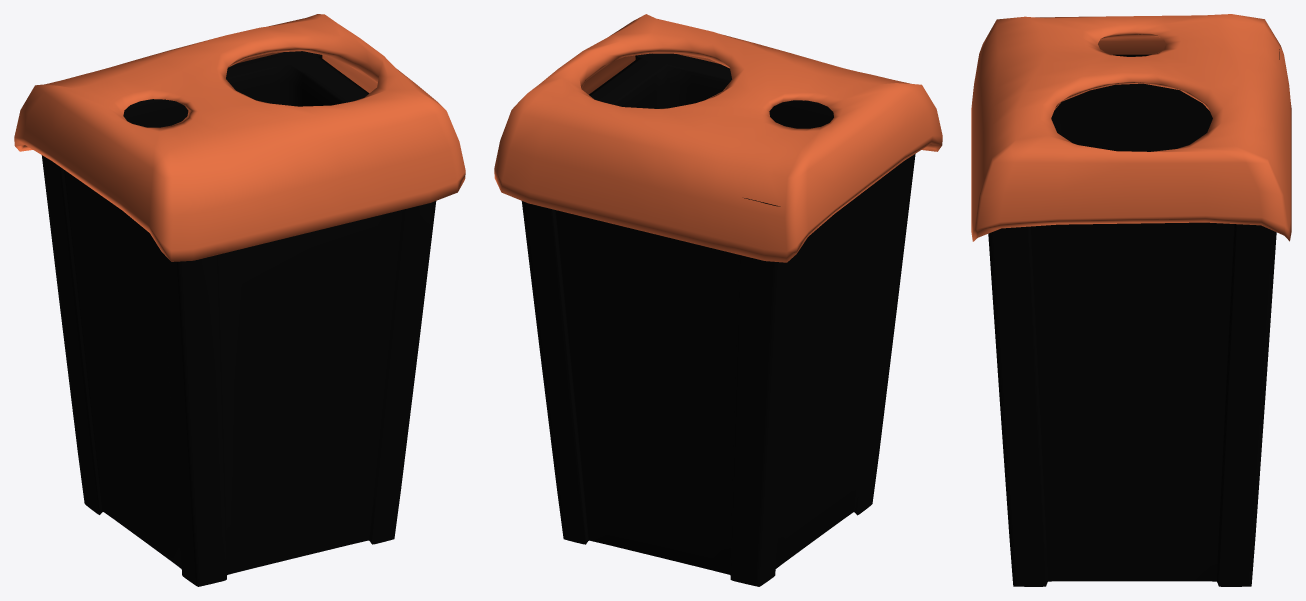
The model's file is red_bin_2.fbx.
The picture shows the model from 3 angles, left to right: view 1: azimuth 30°, elevation 25°; view 2: azimuth 150°, elevation 25°; view 3: azimuth 270°, elevation 25°; orthographic projection. The views are drawn at different scales.
Parts seen in each view (by area): view 1: pCube136; view 2: pCube136; view 3: pCube136.
Boxes of the visible parts, x1,y1,x2,y2 form: pCube136: (14,14,465,586); pCube136: (494,14,942,586); pCube136: (971,14,1291,586).
Bounding box in the file's own units: 9 × 12.22 × 7.74.
